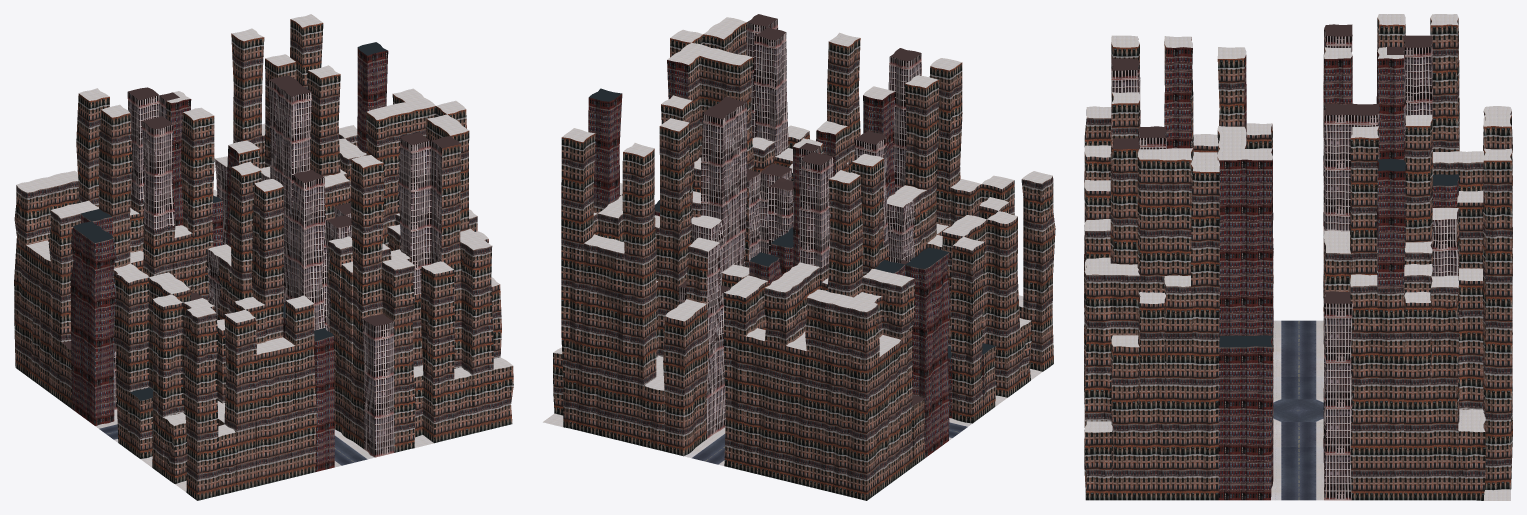
The model's file is Mini City.glb.
The picture shows the model from 3 angles, left to right: view 1: azimuth 30°, elevation 25°; view 2: azimuth 150°, elevation 25°; view 3: azimuth 270°, elevation 25°; orthographic projection. The views are drawn at different scales.
Parts seen in each view (by area): view 1: City_LOD0; view 2: City_LOD0; view 3: City_LOD0.
Part boxes in pixels (bbox=[...]): City_LOD0: bbox=[14, 14, 513, 500]; City_LOD0: bbox=[543, 14, 1055, 500]; City_LOD0: bbox=[1084, 14, 1512, 500].
Size of the model in its own units: 141 by 120 by 141.
4 materials, 4 textured.
